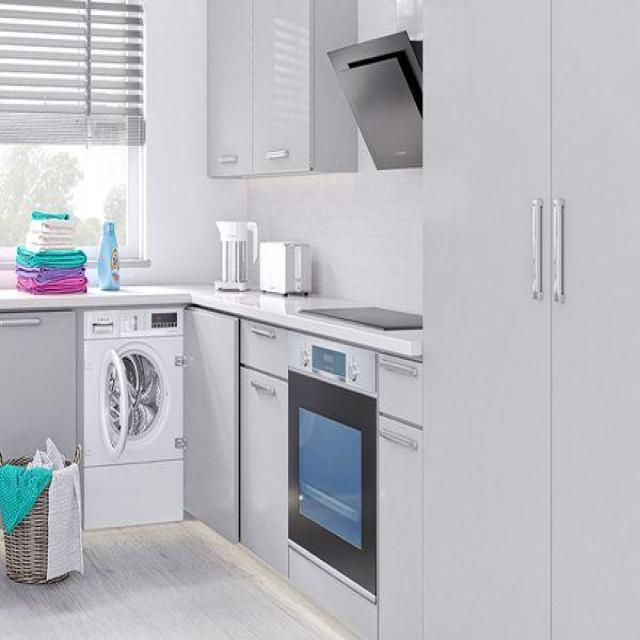dishwasher: (273, 319, 392, 634)
